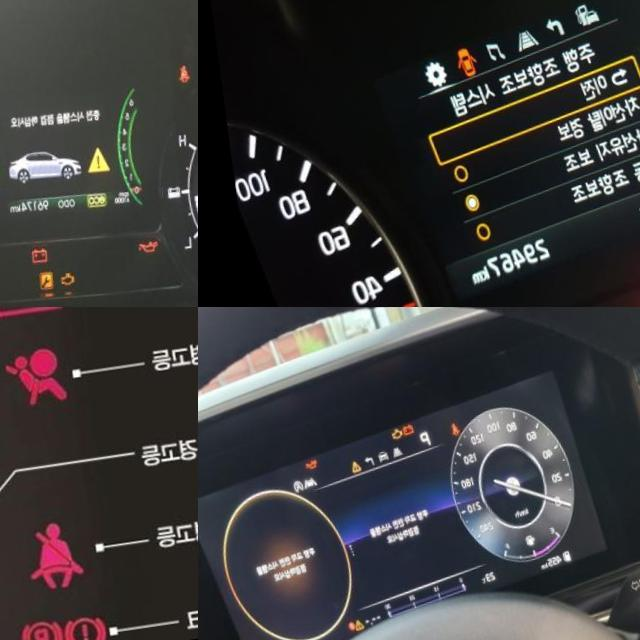Central Warning lamp: (342, 465, 355, 481)
Doors: (445, 48, 476, 87)
